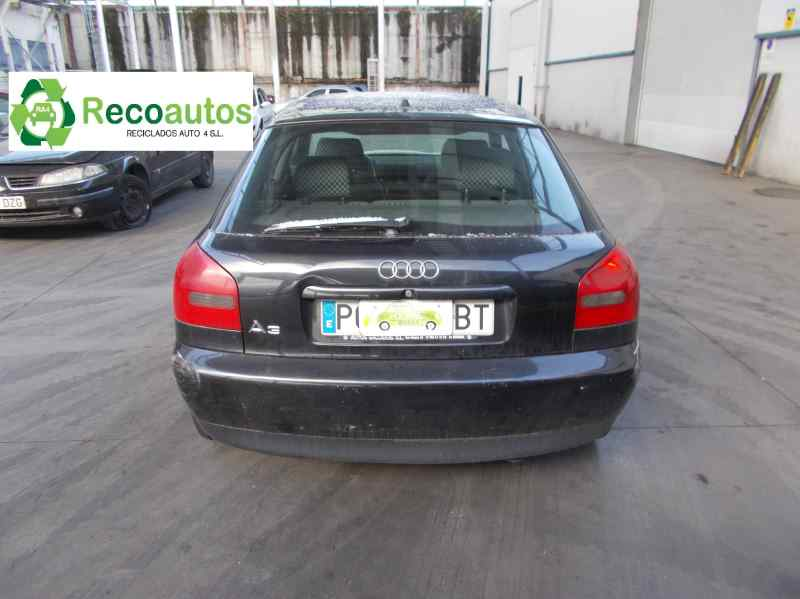audi: (370, 254, 457, 287)
